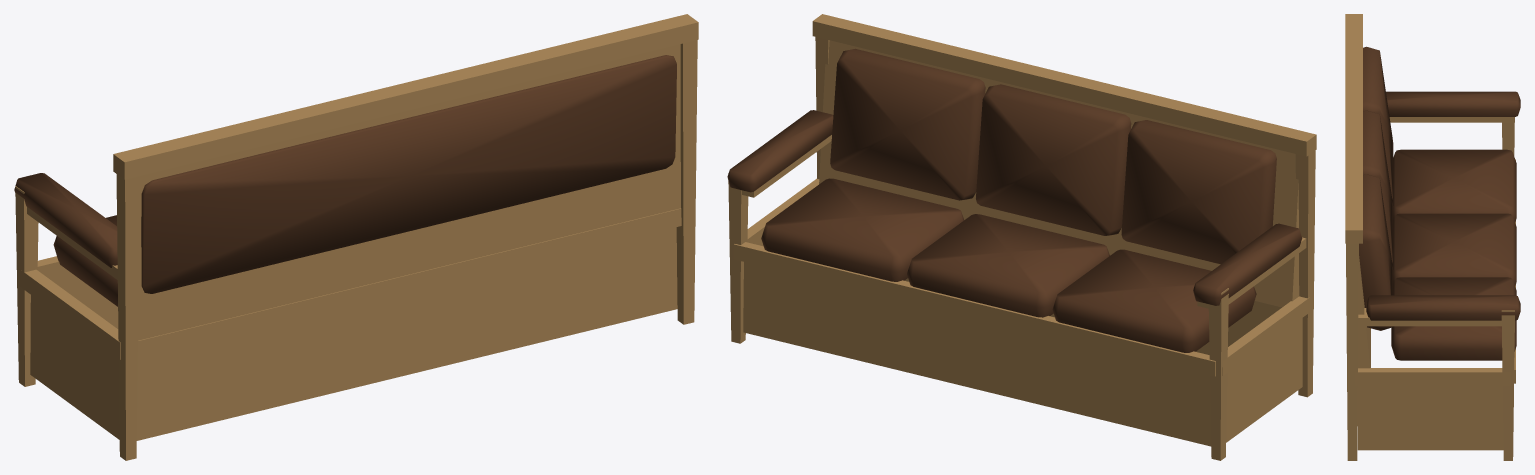
The model's file is parametric-settee-2nd-pub.glb.
3 renders of one model, left to right at view 1: azimuth 30°, elevation 25°; view 2: azimuth 150°, elevation 25°; view 3: azimuth 270°, elevation 25°, orthographic. The views are drawn at different scales.
Parts seen in each view (by area): view 1: parametric-settee-2nd-pub; view 2: parametric-settee-2nd-pub; view 3: parametric-settee-2nd-pub.
Boxes of the visible parts, x1,y1,x2,y2 form: parametric-settee-2nd-pub: [14, 14, 698, 460]; parametric-settee-2nd-pub: [727, 14, 1316, 460]; parametric-settee-2nd-pub: [1345, 14, 1520, 460].
Size of the model in its own units: 1.9 by 0.95 by 0.65.
